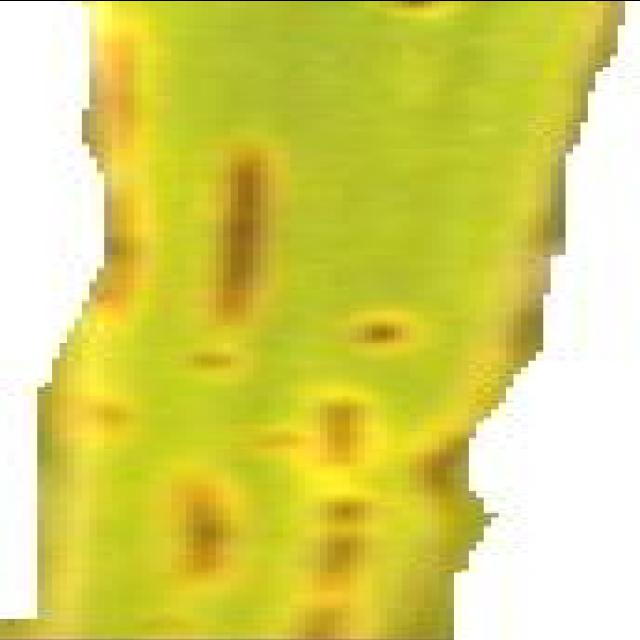Brown_Spot: (149, 454, 305, 596), (313, 391, 380, 640), (230, 139, 290, 329), (342, 292, 468, 368), (358, 0, 514, 20), (193, 353, 283, 375)
